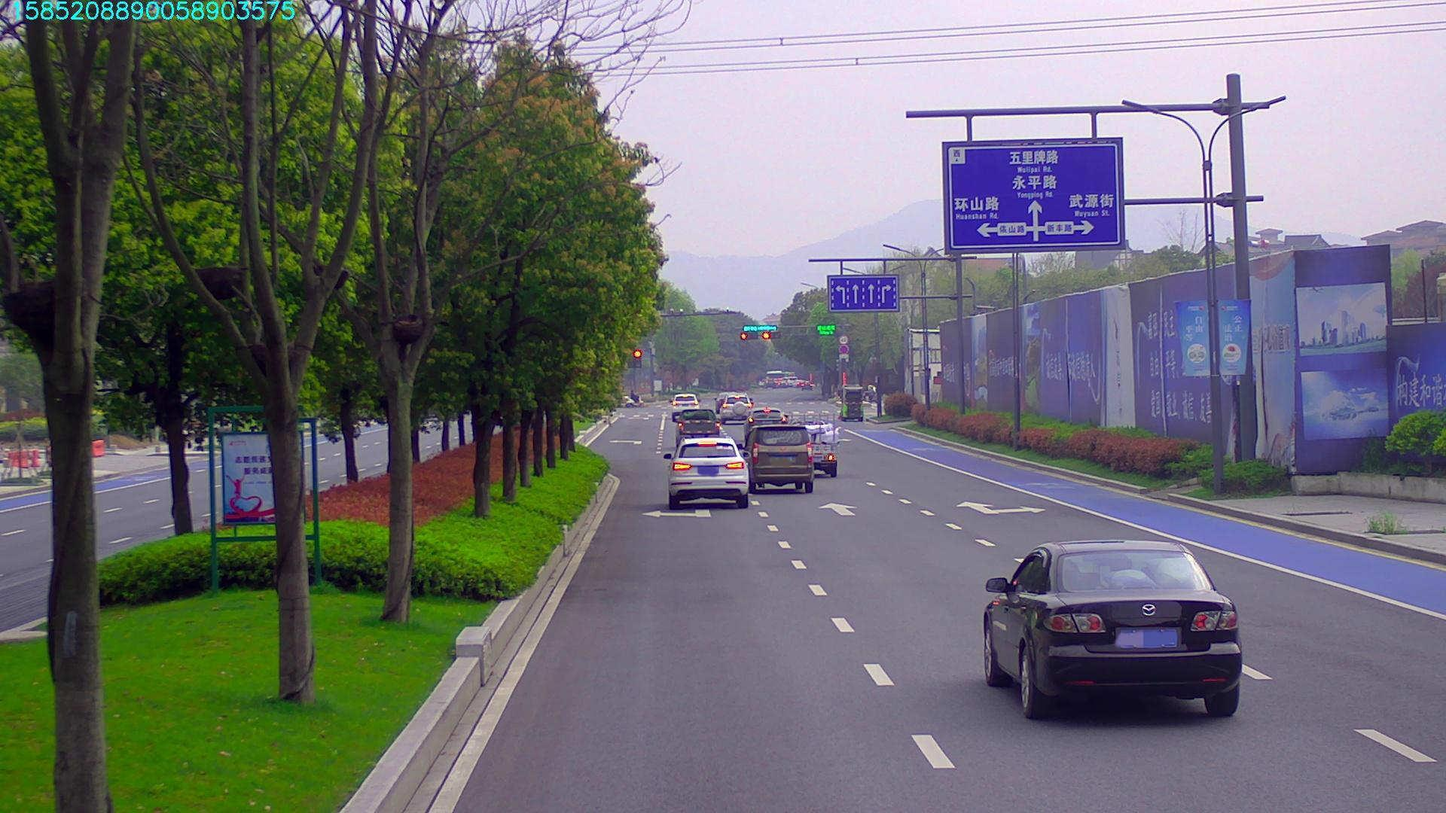red: (764, 333, 779, 344), (742, 330, 755, 339)
wait_on: (744, 320, 782, 330)
